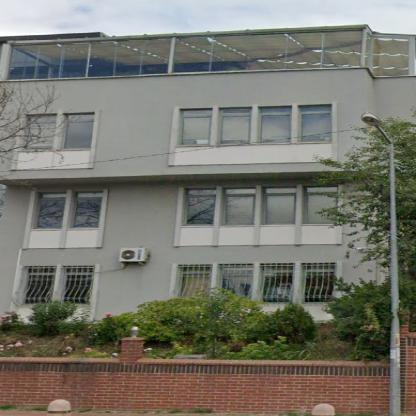window: (7, 29, 413, 78), (300, 106, 331, 142), (180, 108, 210, 144), (261, 107, 291, 142), (263, 265, 291, 302), (306, 187, 334, 223), (226, 188, 253, 225), (25, 116, 55, 149), (64, 114, 93, 148), (26, 267, 53, 303), (65, 267, 92, 303), (306, 263, 332, 300), (178, 266, 208, 298), (221, 265, 251, 297), (221, 109, 249, 143), (73, 192, 100, 227), (187, 189, 214, 223), (267, 188, 292, 224), (38, 192, 64, 226)
